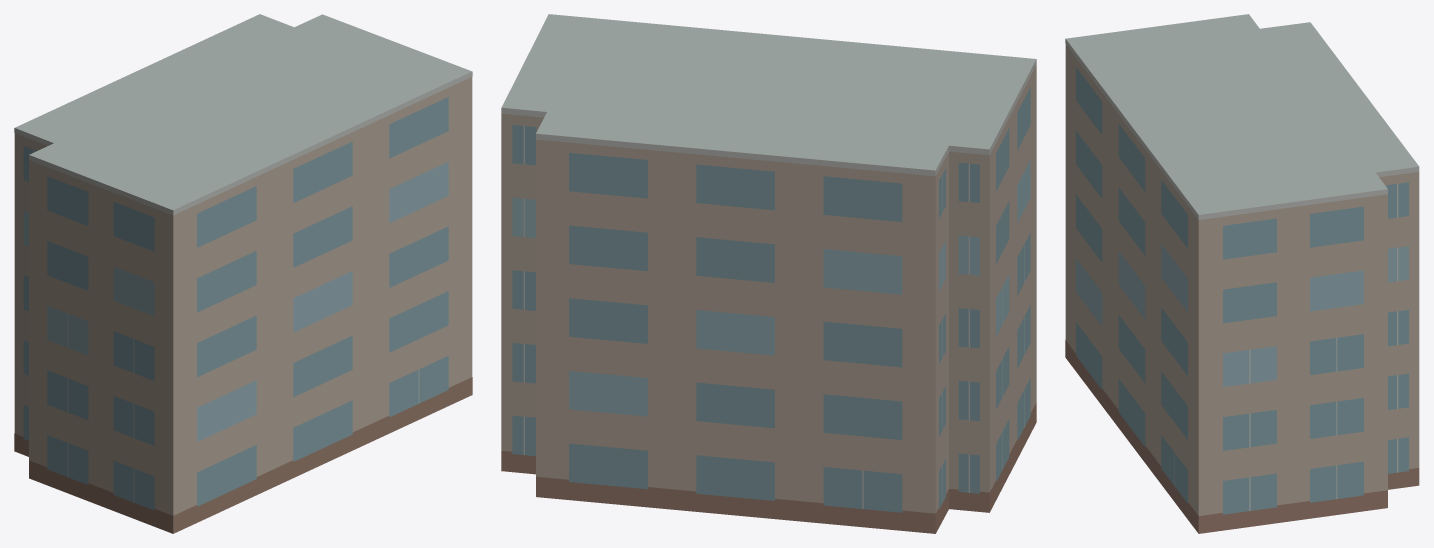
The model's file is survey-upis-32884981.glb.
The picture shows the model from 3 angles, left to right: view 1: azimuth 30°, elevation 25°; view 2: azimuth 150°, elevation 25°; view 3: azimuth 270°, elevation 25°; orthographic projection. The views are drawn at different scales.
Parts seen in each view (by area): view 1: survey-upis-32884981.tmp; view 2: survey-upis-32884981.tmp; view 3: survey-upis-32884981.tmp.
Part boxes in pixels (box(x1,y1,x2,y2)): survey-upis-32884981.tmp: box(14, 14, 472, 533); survey-upis-32884981.tmp: box(501, 14, 1036, 533); survey-upis-32884981.tmp: box(1065, 14, 1419, 533).
Bounding box in the file's own units: 20.7 × 15.3 × 15.4.
